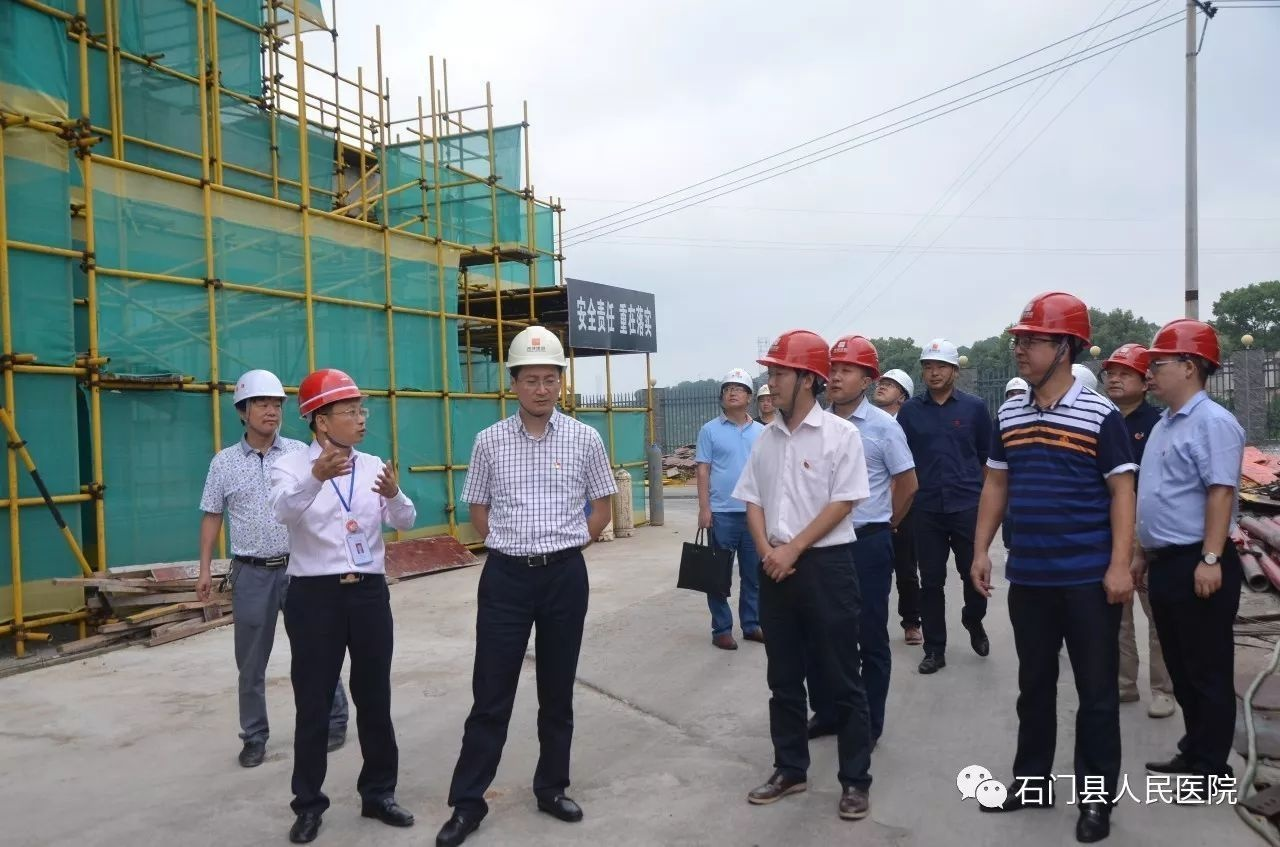red: (1005, 287, 1095, 391), (1143, 315, 1220, 404), (295, 363, 372, 449), (763, 331, 827, 415), (1097, 343, 1150, 406), (826, 332, 875, 400)
white: (499, 321, 569, 418), (230, 367, 289, 436), (916, 340, 964, 395), (869, 367, 913, 411), (715, 366, 752, 413), (752, 380, 776, 418)
